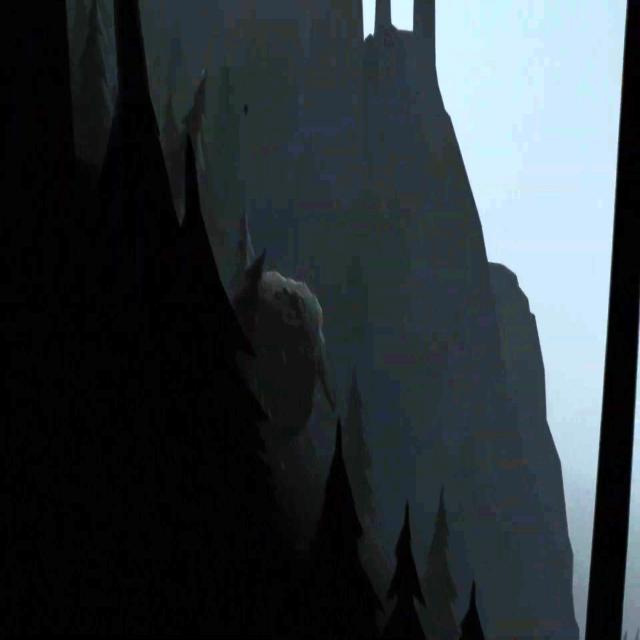blob: (264, 269, 325, 376)
